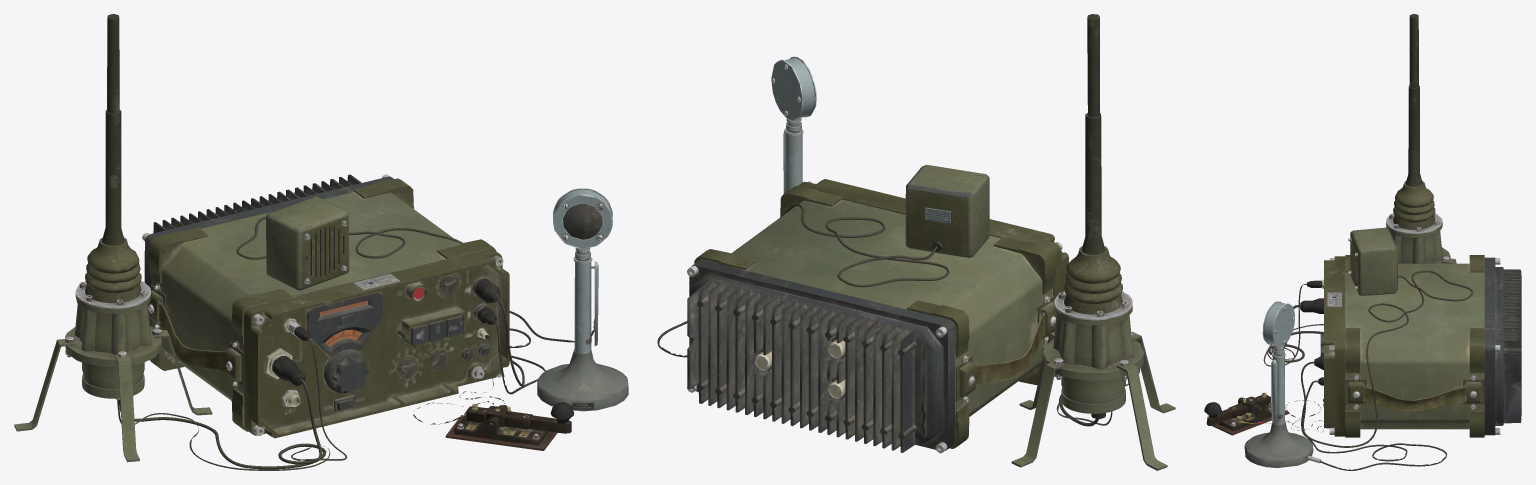
File: vintage_radio_transceiver.glb
3 renders of one model, left to right at view 1: azimuth 30°, elevation 25°; view 2: azimuth 150°, elevation 25°; view 3: azimuth 270°, elevation 25°, orthographic. The views are drawn at different scales.
Visible parts, largest first — view 1: vintage_radio_transceiver, vintage_radio_transceiver_cable; view 2: vintage_radio_transceiver, vintage_radio_transceiver_cable; view 3: vintage_radio_transceiver, vintage_radio_transceiver_cable.
Part boxes in pixels (<box>): vintage_radio_transceiver: <box>142,174,509,438</box>; vintage_radio_transceiver_cable: <box>14,14,628,470</box>; vintage_radio_transceiver: <box>687,179,1068,453</box>; vintage_radio_transceiver_cable: <box>657,14,1175,470</box>; vintage_radio_transceiver: <box>1320,255,1521,437</box>; vintage_radio_transceiver_cable: <box>1204,14,1473,470</box>.
Bounding box in the file's own units: 0.574 × 0.4344 × 0.4131.
2 materials, 2 textured.
